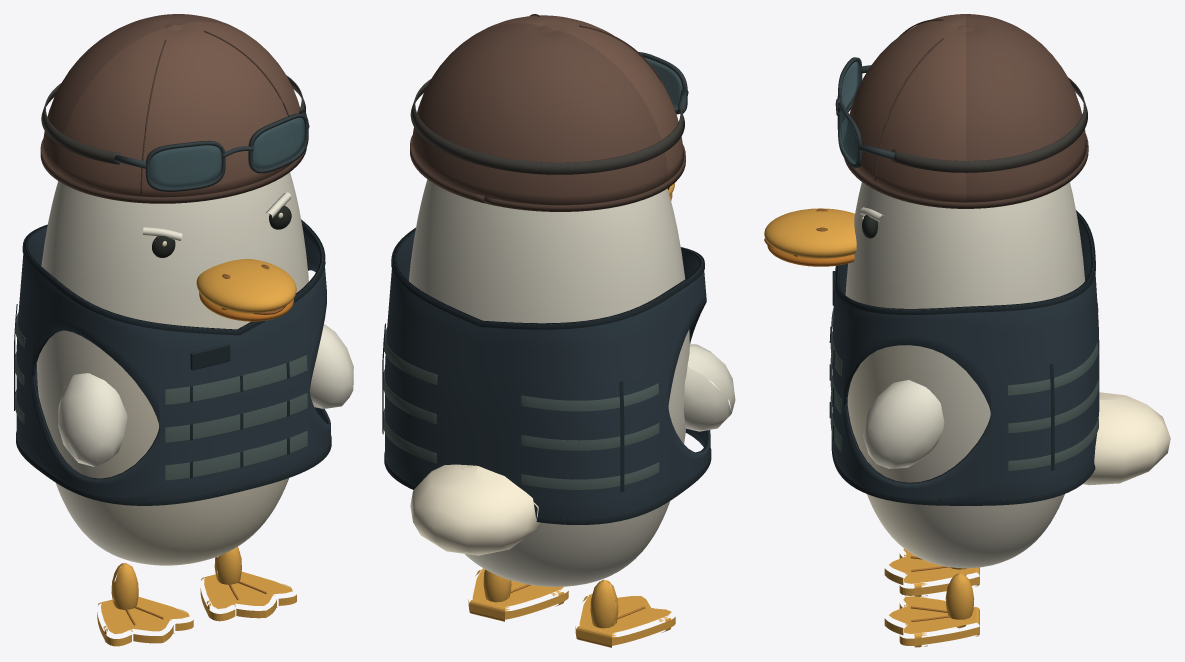
Rendered from goose-face-refined-character.glb.
The picture shows the model from 3 angles, left to right: view 1: azimuth 30°, elevation 25°; view 2: azimuth 150°, elevation 25°; view 3: azimuth 270°, elevation 25°; orthographic projection. The views are drawn at different scales.
Visible parts, largest first — view 1: goose_vest_refined_mesh, goose_torso_mesh, goose_face_aviator_cap_mesh, goose_face_raised_goggles_mesh, goose_leftArm_mesh, goose_beak_mesh, goose_leftFoot_mesh, goose_rightFoot_mesh, goose_rightArm_mesh; view 2: goose_vest_refined_mesh, goose_face_aviator_cap_mesh, goose_torso_mesh, goose_tail_mesh, goose_face_raised_goggles_mesh, goose_leftFoot_mesh, goose_leftArm_mesh, goose_rightFoot_mesh; view 3: goose_torso_mesh, goose_vest_refined_mesh, goose_face_aviator_cap_mesh, goose_rightArm_mesh, goose_tail_mesh, goose_face_raised_goggles_mesh, goose_beak_mesh, goose_rightFoot_mesh, goose_leftFoot_mesh.
Boxes of the visible parts, x1,y1,x2,y2 form: goose_vest_refined_mesh: (14,219,331,505); goose_torso_mesh: (36,172,308,565); goose_face_aviator_cap_mesh: (40,14,306,203); goose_face_raised_goggles_mesh: (41,75,309,191); goose_leftArm_mesh: (58,373,127,466); goose_beak_mesh: (196,259,296,321); goose_leftFoot_mesh: (97,563,193,646); goose_rightFoot_mesh: (200,546,296,621); goose_rightArm_mesh: (309,324,353,408); goose_vest_refined_mesh: (382,227,711,524); goose_face_aviator_cap_mesh: (410,14,685,211); goose_torso_mesh: (409,179,689,586); goose_tail_mesh: (410,464,542,555); goose_face_raised_goggles_mesh: (410,52,688,174); goose_leftFoot_mesh: (575,579,675,647); goose_leftArm_mesh: (683,344,735,431); goose_rightFoot_mesh: (468,568,568,621); goose_torso_mesh: (845,182,1084,568); goose_vest_refined_mesh: (829,210,1099,505); goose_face_aviator_cap_mesh: (844,14,1088,208); goose_rightArm_mesh: (863,380,944,468); goose_tail_mesh: (1083,392,1170,485); goose_face_raised_goggles_mesh: (835,57,1087,172); goose_beak_mesh: (764,208,856,266); goose_rightFoot_mesh: (884,573,979,647); goose_leftFoot_mesh: (884,548,979,596).
Size of the model in its own units: 1.1 by 2.15 by 1.37.
